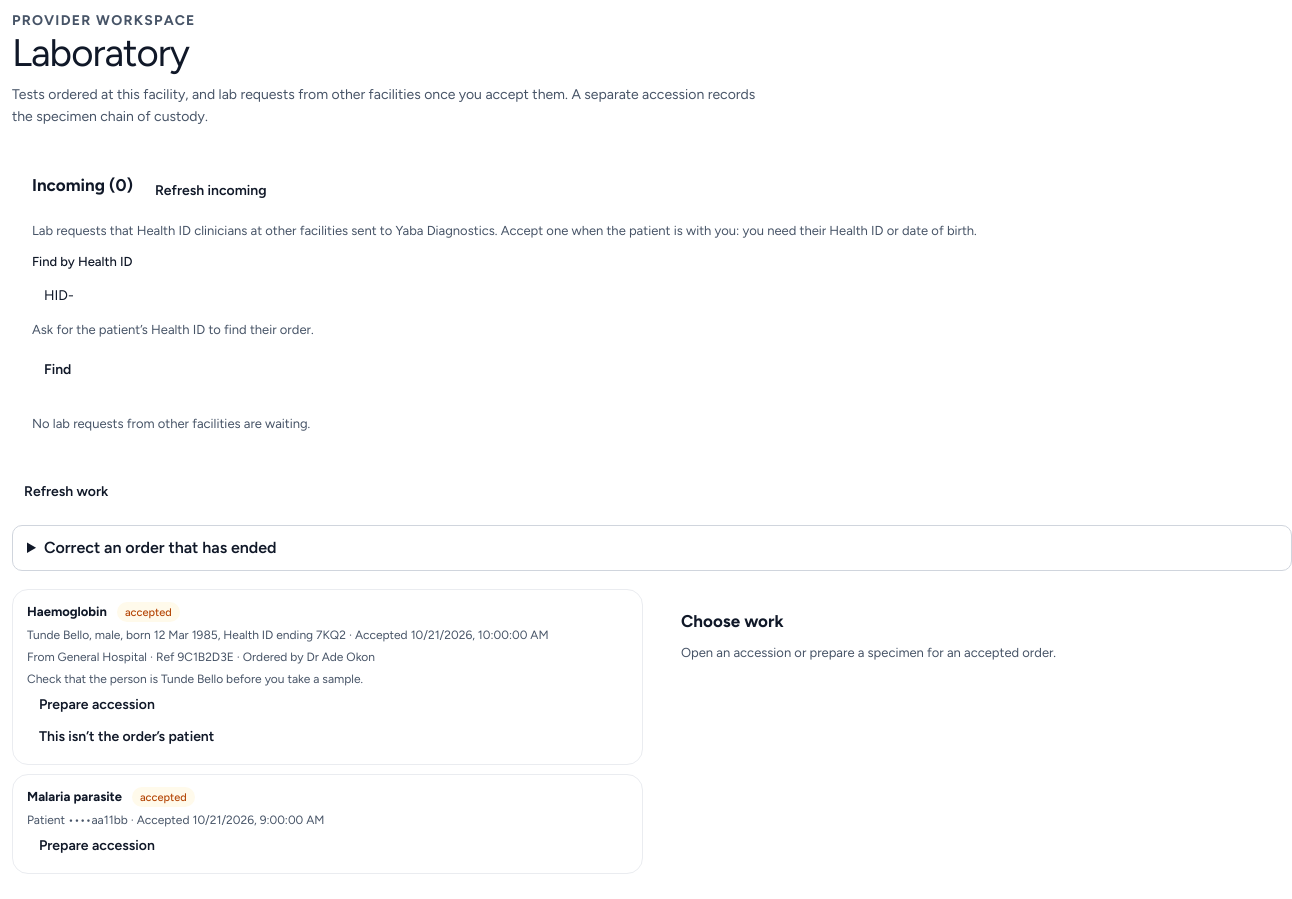
Scenario: dormant until the backend serves it (D18-13) › offers nothing new against today’s answers, which carry item 3’s, item 4’s and D17’s signals but no cannotComplete
Expected: the text "Haemoglobin" is shown, [27,602,107,622]
# Item 3's form keeps today's sentence.
Click the button "This isn’t the order’s patient" at (127, 736), box [27,720,226,752]
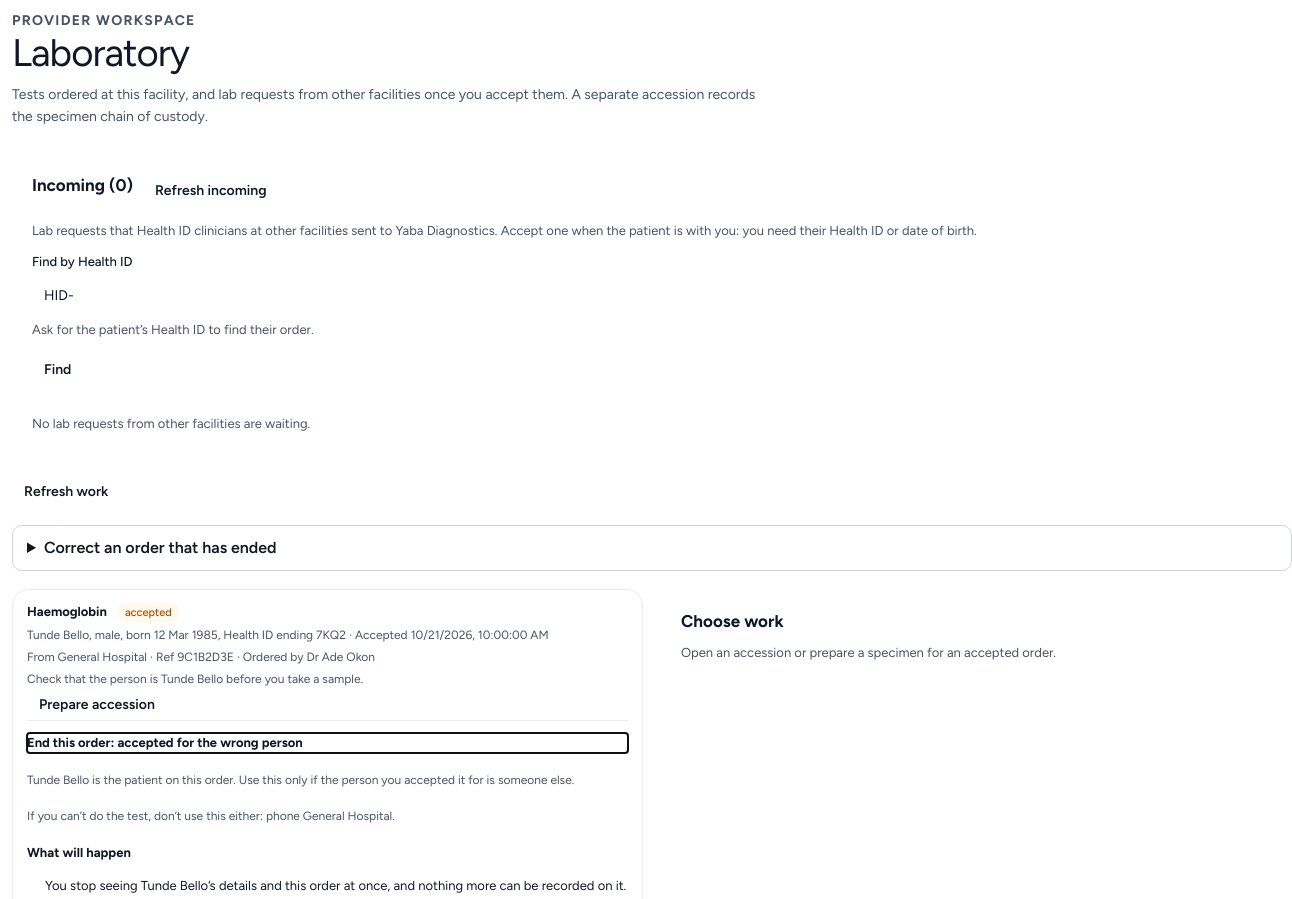
Expected: the text "If you can’t do the test, don’t use this either: phone General Hospital." is shown, [27,808,395,822]
